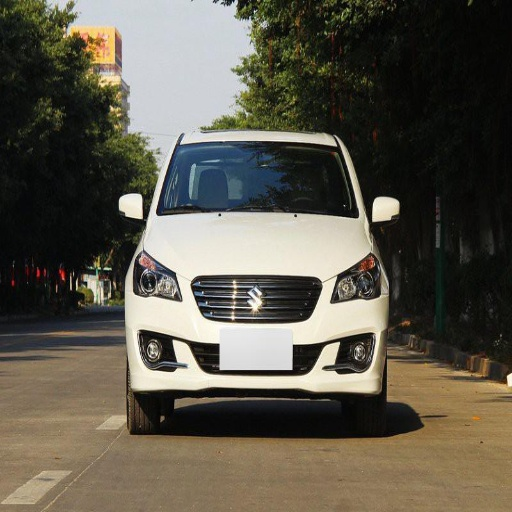front_bumper: (129, 273, 388, 401)
front_right_light: (133, 254, 182, 301)
hood: (144, 212, 370, 276)
